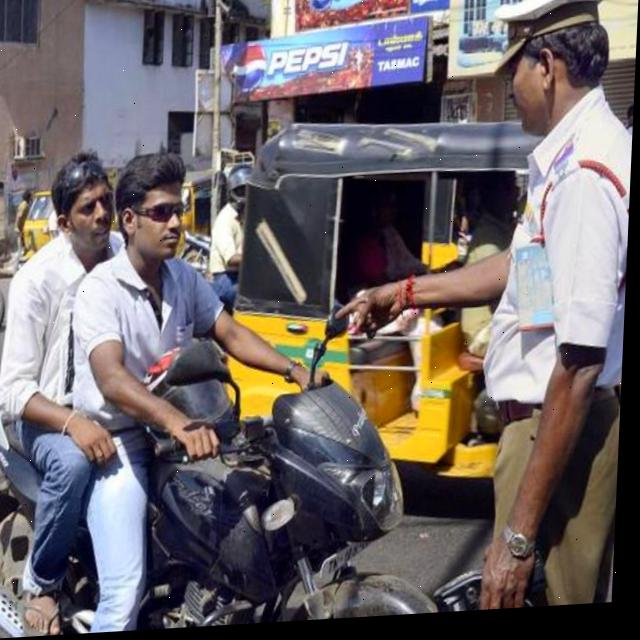without helmet: (44, 136, 130, 272), (110, 139, 199, 267)
